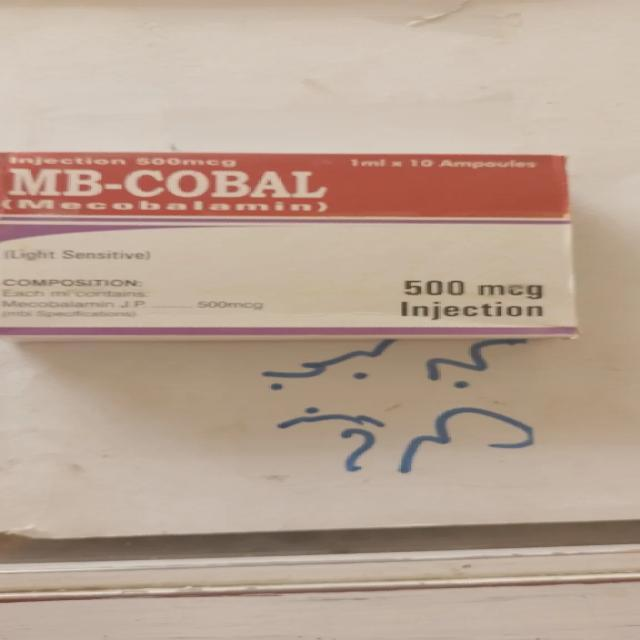drug-name: (9, 168, 326, 199)
